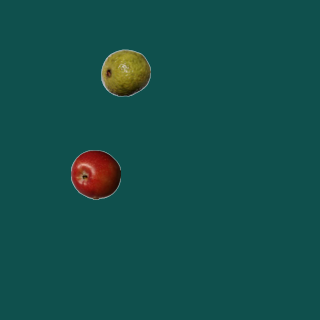Apple Braeburn: (70, 149, 120, 199)
Guava: (100, 47, 150, 97)
